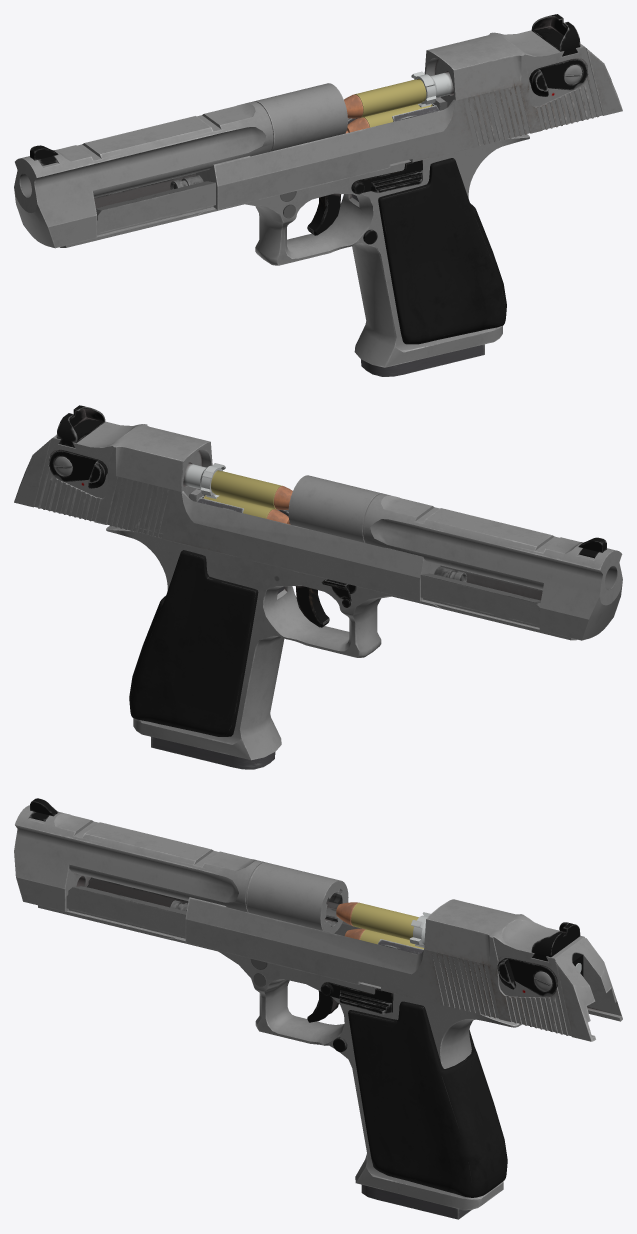
The model's file is b_empty.fbx.
The picture shows the model from 3 angles, top to bottom: view 1: azimuth 30°, elevation 25°; view 2: azimuth 150°, elevation 25°; view 3: azimuth 330°, elevation 25°; orthographic projection.
Visible parts, largest first — view 1: Desert Deagle, Bolt, Bullet.006, Mag, Safety, Bolt_Holder, Trigger, Bullet.007; view 2: Desert Deagle, Bolt, Bullet.006, Mag, Safety, Trigger, Bullet.007; view 3: Desert Deagle, Bolt, Bullet.006, Safety, Mag, Bolt_Holder, Bullet.007.
Boxes of the visible parts, x1,y1,x2,y2 form: Desert Deagle: (14, 83, 529, 367); Bolt: (170, 14, 622, 209); Bullet.006: (344, 78, 426, 118); Mag: (348, 103, 484, 376); Safety: (529, 59, 587, 96); Bolt_Holder: (351, 160, 422, 194); Trigger: (307, 193, 341, 235); Bullet.007: (345, 104, 432, 133); Desert Deagle: (106, 475, 622, 760); Bolt: (14, 405, 467, 601); Bullet.006: (211, 470, 292, 510); Mag: (151, 496, 288, 769); Safety: (49, 450, 107, 488); Trigger: (295, 586, 329, 627); Bullet.007: (203, 495, 290, 524); Desert Deagle: (14, 798, 521, 1210); Bolt: (170, 897, 622, 1041); Bullet.006: (336, 902, 418, 939); Safety: (497, 958, 557, 996); Mag: (361, 939, 471, 1219); Bolt_Holder: (320, 982, 393, 1014); Bullet.007: (345, 928, 423, 949).
Size of the model in its own units: 15.67 by 7.79 by 1.78.
